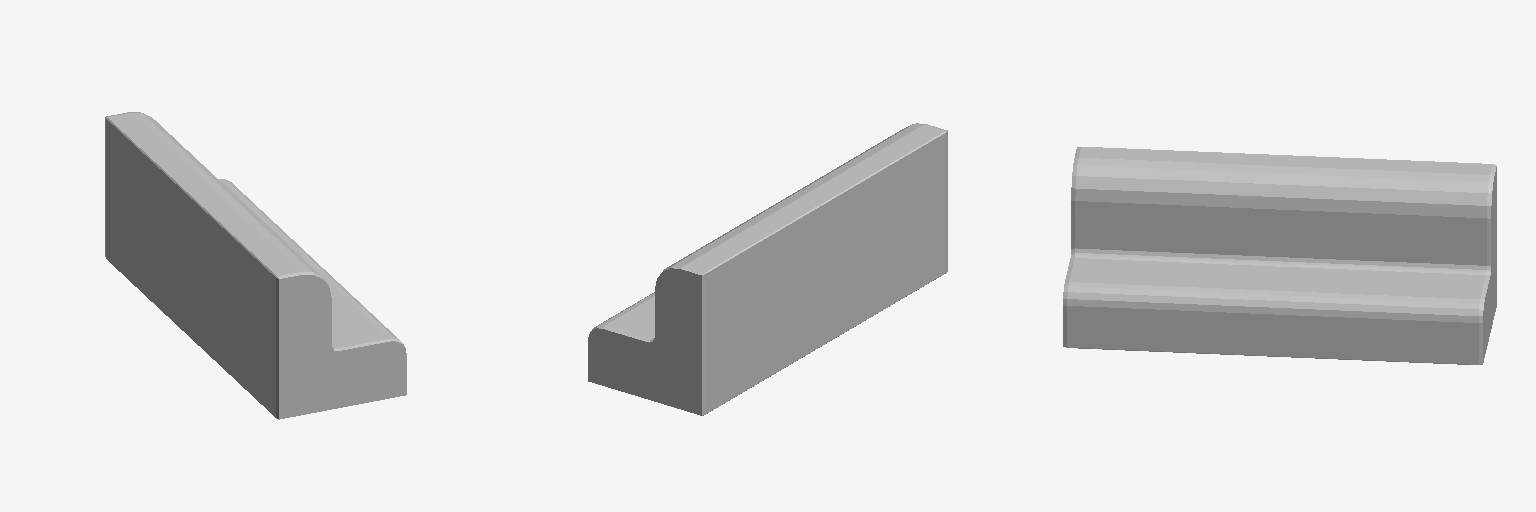
File: seat_7.obj
3 views of the same model, side by side, from view 1: azimuth 30°, elevation 25°; view 2: azimuth 150°, elevation 25°; view 3: azimuth 270°, elevation 25° (orthographic).
Parts seen in each view (by area): view 1: Cadeira1.006_Cube.006; view 2: Cadeira1.006_Cube.006; view 3: Cadeira1.006_Cube.006.
Part boxes in pixels (bbox=[...]): Cadeira1.006_Cube.006: bbox=[105, 112, 406, 419]; Cadeira1.006_Cube.006: bbox=[588, 123, 947, 415]; Cadeira1.006_Cube.006: bbox=[1063, 147, 1496, 364].
Bounding box in the file's own units: 1.4 × 1.2 × 3.32.